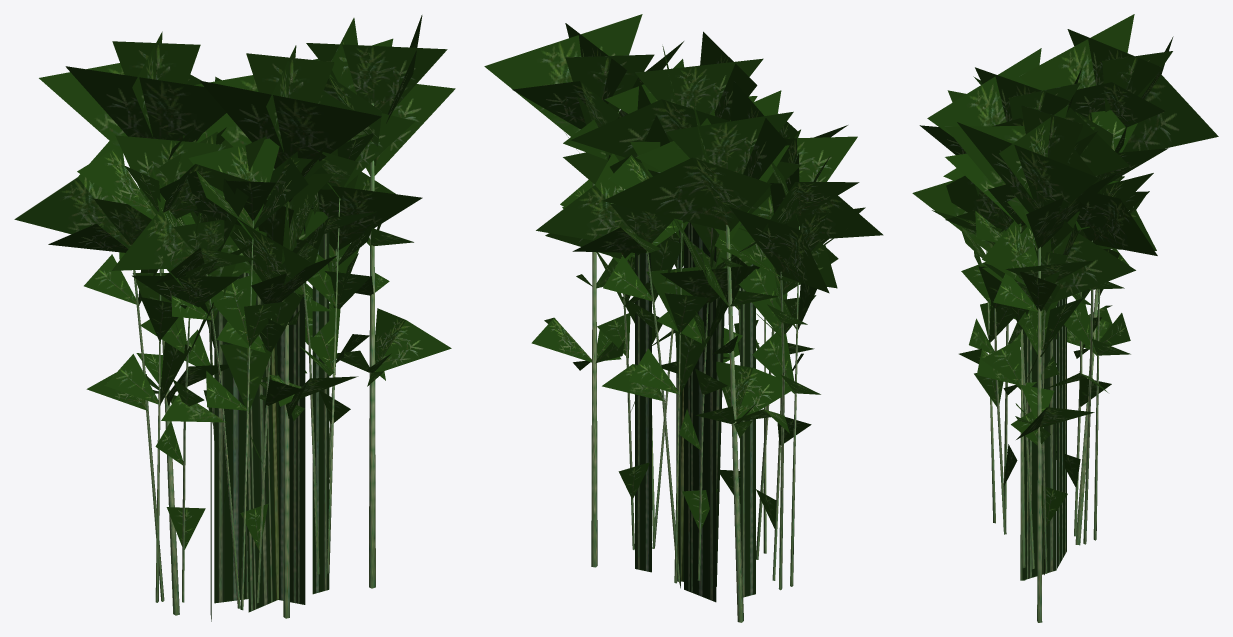
The model's file is leaf_bamboogrove_l1.fbx.
3 views of the same model, side by side, from view 1: azimuth 30°, elevation 25°; view 2: azimuth 150°, elevation 25°; view 3: azimuth 270°, elevation 25° (orthographic). The views are drawn at different scales.
Visible parts, largest first — view 1: mesh_node; view 2: mesh_node; view 3: mesh_node.
Part boxes in pixels (x1=…): mesh_node: x1=14, y1=15, x2=455, y2=621; mesh_node: x1=484, y1=14, x2=883, y2=622; mesh_node: x1=912, y1=14, x2=1218, y2=622.
Size of the model in its own units: 11.2 by 15.27 by 8.49.
